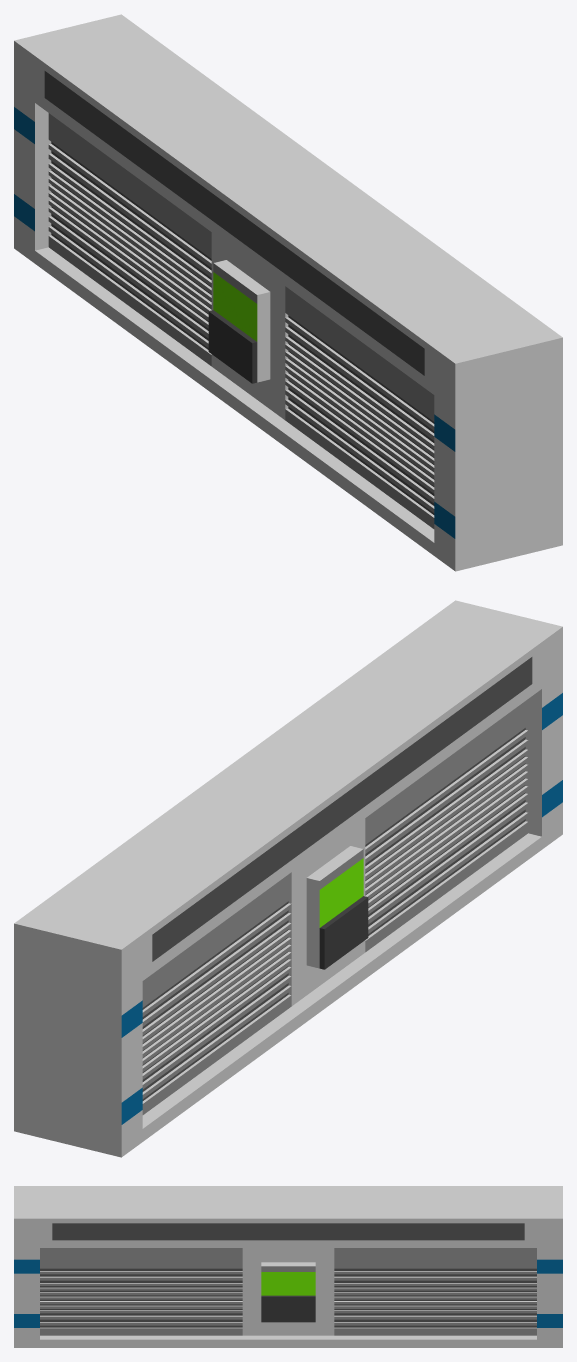
The model's file is BG_Platform_-_ventilation.fbx.
3 renders of one model, top to bottom at view 1: azimuth 30°, elevation 25°; view 2: azimuth 150°, elevation 25°; view 3: azimuth 270°, elevation 25°, orthographic. The views are drawn at different scales.
Visible parts, largest first — view 1: Cube; view 2: Cube; view 3: Cube.
Part boxes in pixels (bbox=[...]): Cube: bbox=[14, 14, 562, 571]; Cube: bbox=[14, 600, 562, 1157]; Cube: bbox=[14, 1186, 562, 1347].
Bounding box in the file's own units: 216 × 369 × 1422.
